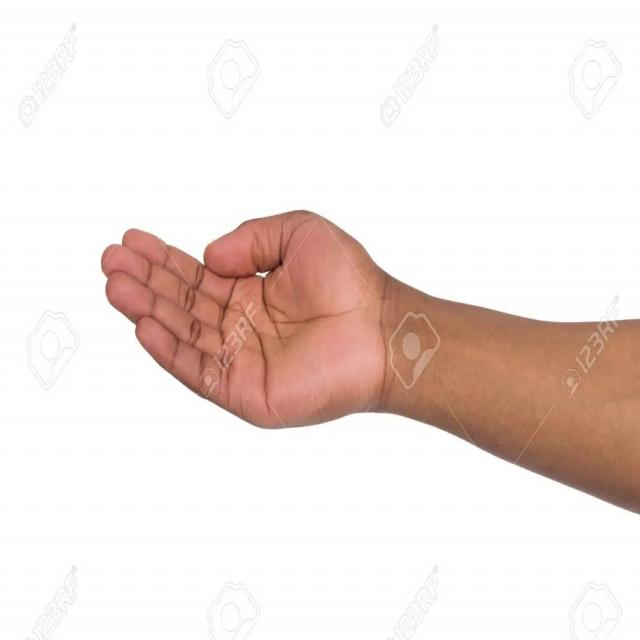bare_hand: (100, 208, 399, 432)
